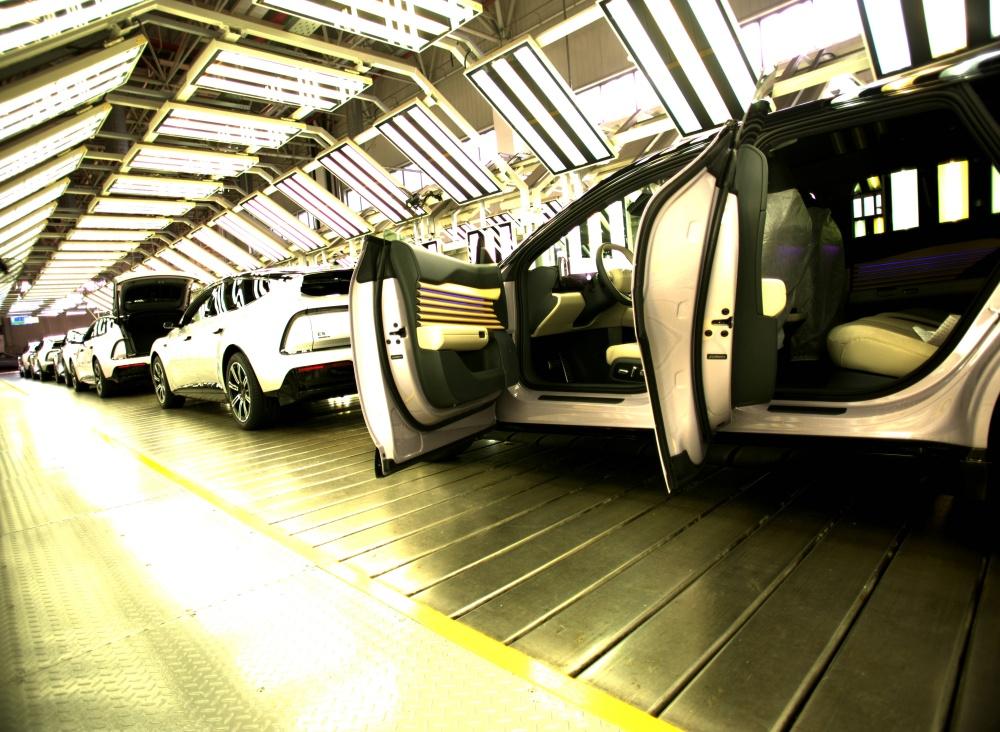armrest_color: (420, 326, 496, 356)
panel_color: (415, 269, 507, 323)
